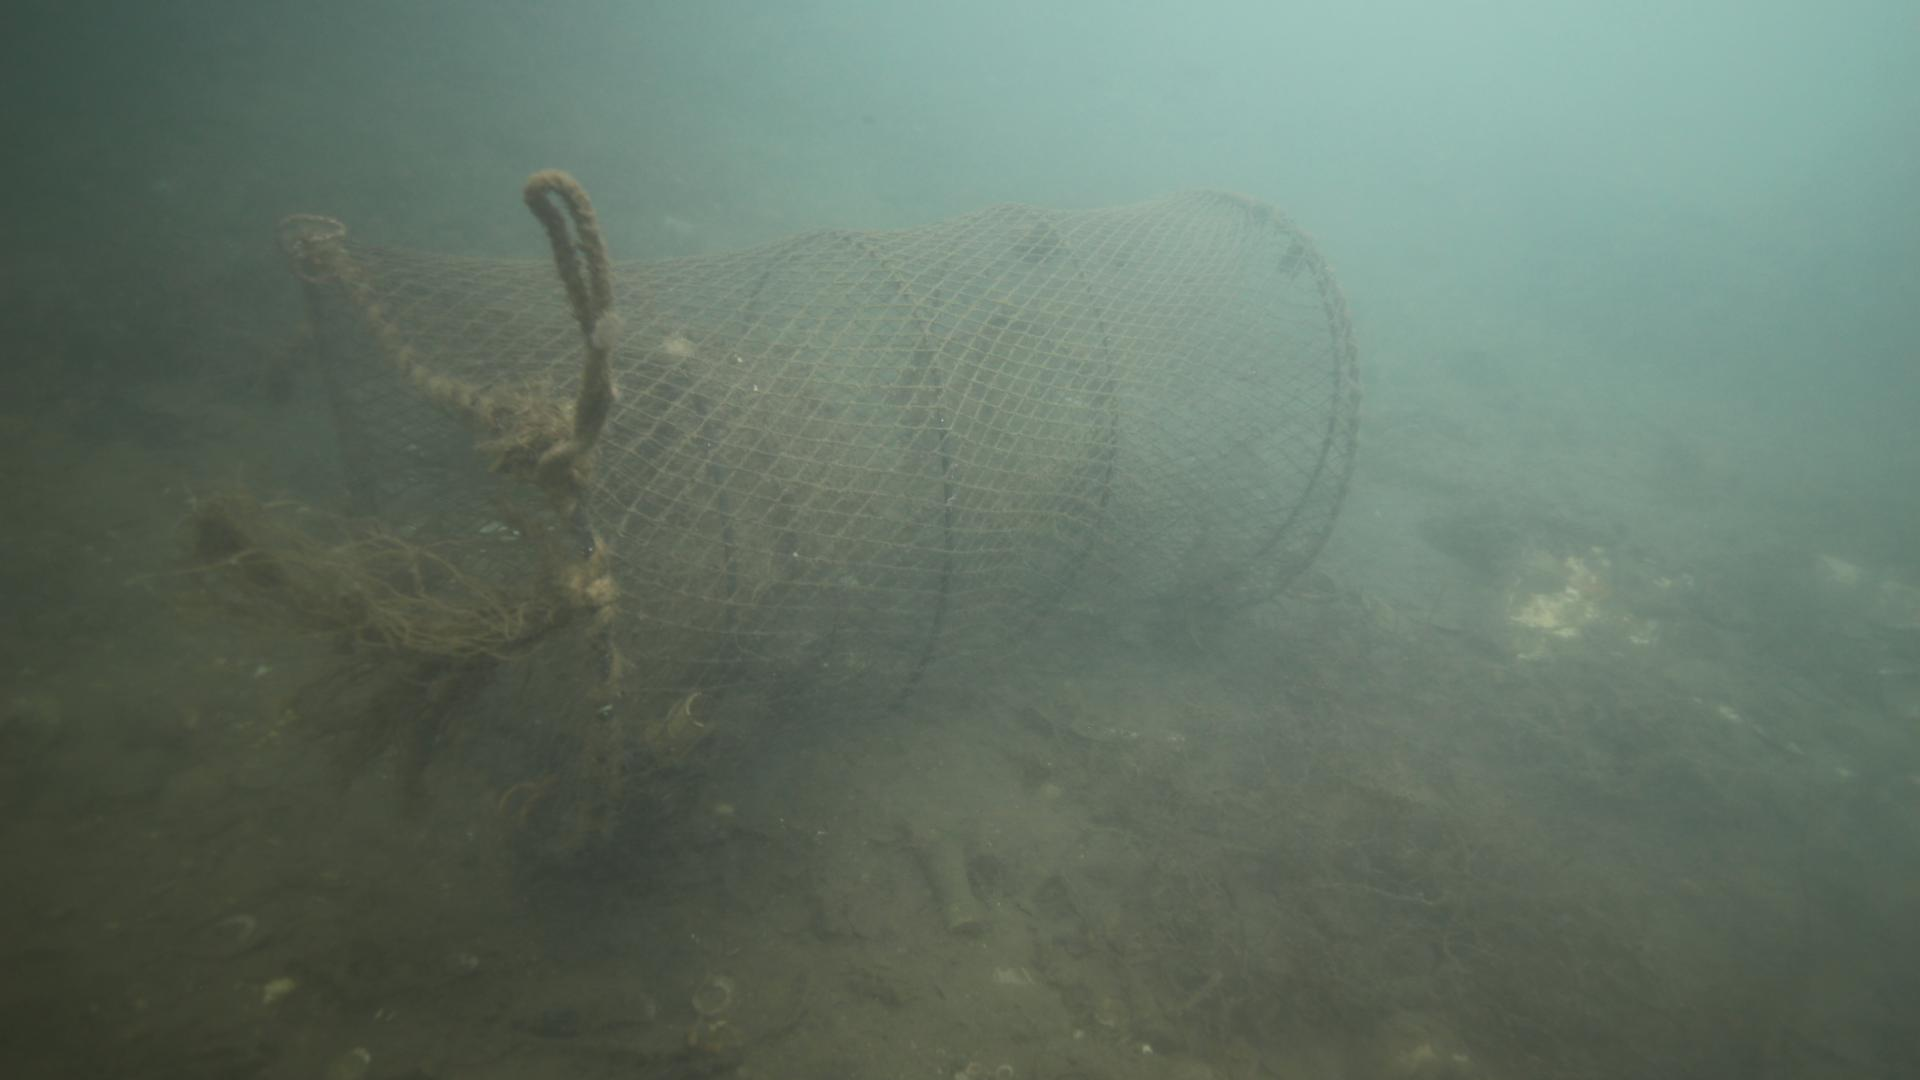bundle of ropes: (522, 169, 621, 452)
spring fish trap: (281, 185, 1367, 884)
